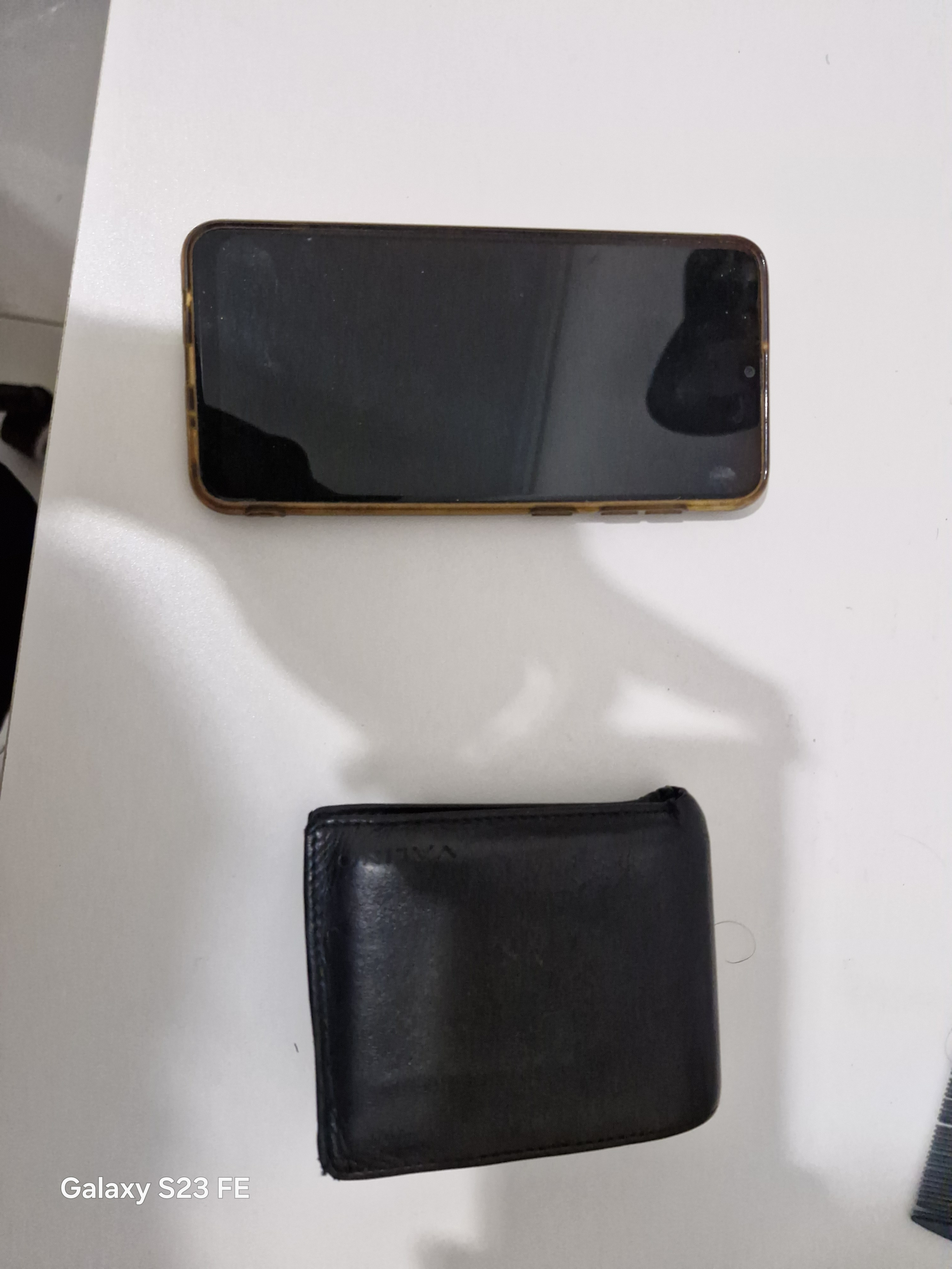cell phone: (186, 224, 766, 513)
table-merged: (0, 0, 951, 1268)
wallet: (305, 787, 720, 1179)
